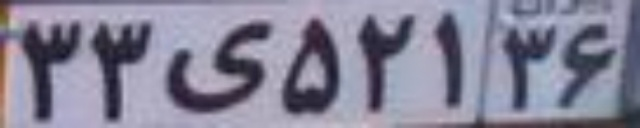1: (432, 12, 463, 107)
2: (357, 13, 412, 110)
3: (19, 19, 81, 121), (93, 16, 148, 119), (501, 25, 554, 109)
5: (282, 18, 341, 111)
6: (560, 24, 617, 108)
he: (163, 18, 272, 111)
